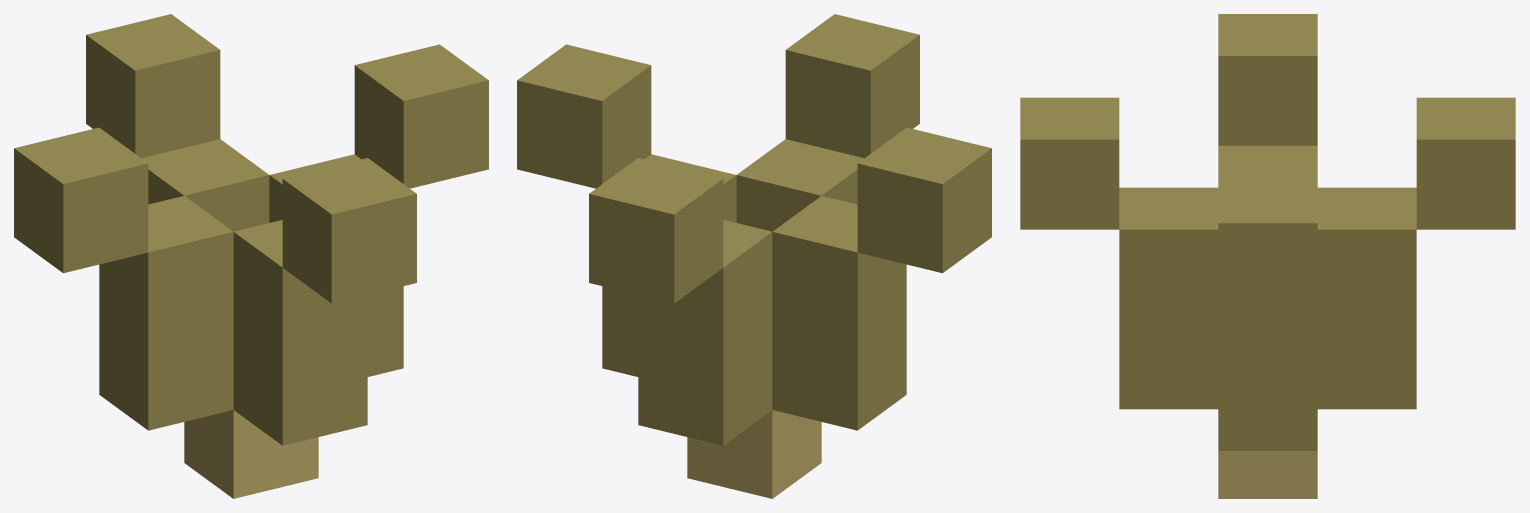
The model's file is foliage_corn_small.glb.
3 renders of one model, left to right at view 1: azimuth 30°, elevation 25°; view 2: azimuth 150°, elevation 25°; view 3: azimuth 270°, elevation 25°, orthographic.
Visible parts, largest first — view 1: foliage_corn_small; view 2: foliage_corn_small; view 3: foliage_corn_small.
Part boxes in pixels (x1,y1,x2,y2): foliage_corn_small: (14,14,488,498); foliage_corn_small: (517,14,991,498); foliage_corn_small: (1020,14,1515,498).
Size of the model in its own units: 1 by 0.8 by 1.
1 material, 1 textured.
